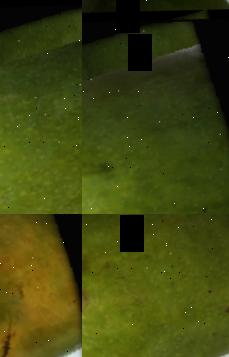PartiallyRipe: (0, 214, 82, 357)
Unripe: (82, 8, 229, 214), (82, 214, 229, 357), (0, 0, 82, 214)
